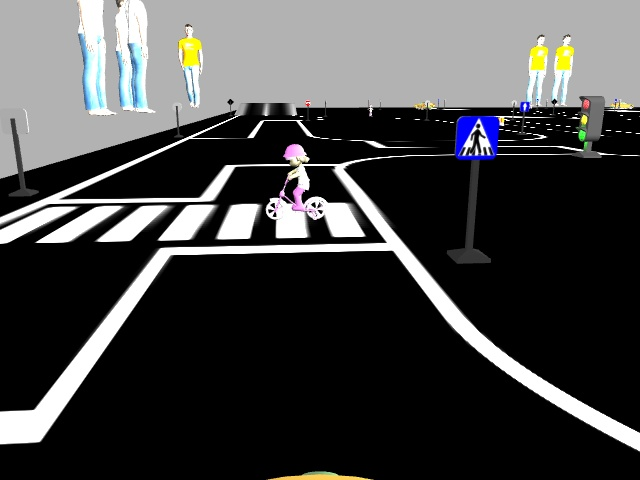Crosswalk: (266, 142, 330, 220), (454, 114, 499, 159)
TrafficLight: (575, 93, 605, 142)
